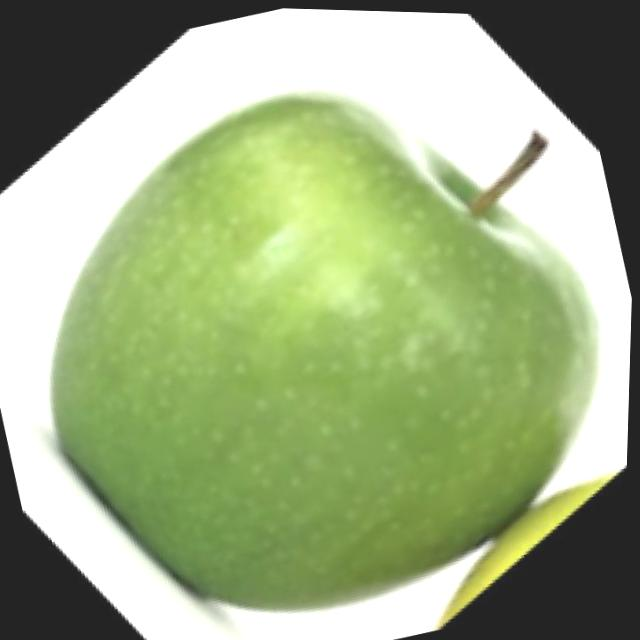Apple: (0, 20, 640, 640)
